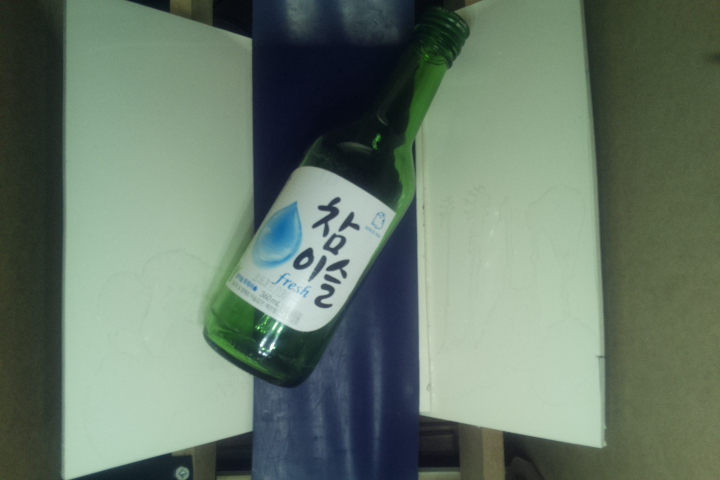soju: (203, 6, 470, 390)
